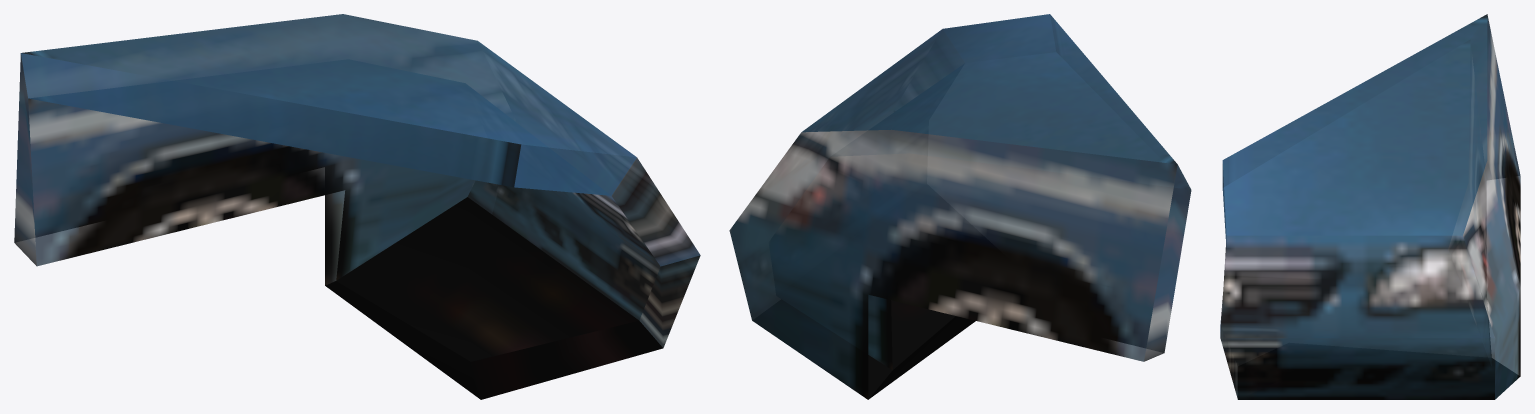
File: Shared - Ground Vehicles - Police Car - CVPoliceCar_x01.glb
3 views of the same model, side by side, from view 1: azimuth 30°, elevation 25°; view 2: azimuth 150°, elevation 25°; view 3: azimuth 270°, elevation 25° (orthographic). The views are drawn at different scales.
Visible parts, largest first — view 1: CVPOLICECAR_X01; view 2: CVPOLICECAR_X01; view 3: CVPOLICECAR_X01.
Part boxes in pixels (x1,y1,x2,y2): CVPOLICECAR_X01: (14, 14, 700, 399); CVPOLICECAR_X01: (729, 14, 1191, 399); CVPOLICECAR_X01: (1220, 14, 1520, 399).
Size of the model in its own units: 5.87 by 3.66 by 4.08.
Materials: 1 (1 with a texture image).
